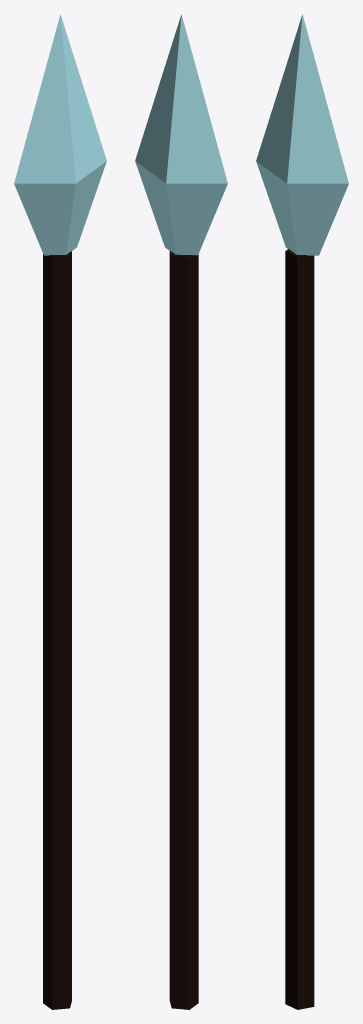
The model's file is lanza.FBX.
3 renders of one model, left to right at view 1: azimuth 30°, elevation 25°; view 2: azimuth 150°, elevation 25°; view 3: azimuth 330°, elevation 25°, orthographic.
Visible parts, largest first — view 1: stick, end; view 2: stick, end; view 3: stick, end.
Boxes of the visible parts, x1=… form: stick: x1=43, y1=251, x2=71, y2=1009; end: x1=14, y1=14, x2=106, y2=255; stick: x1=169, y1=251, x2=198, y2=1009; end: x1=135, y1=14, x2=227, y2=255; stick: x1=285, y1=249, x2=314, y2=1009; end: x1=256, y1=14, x2=348, y2=255.
Bounding box in the file's own units: 16.19 × 165 × 9.29.
